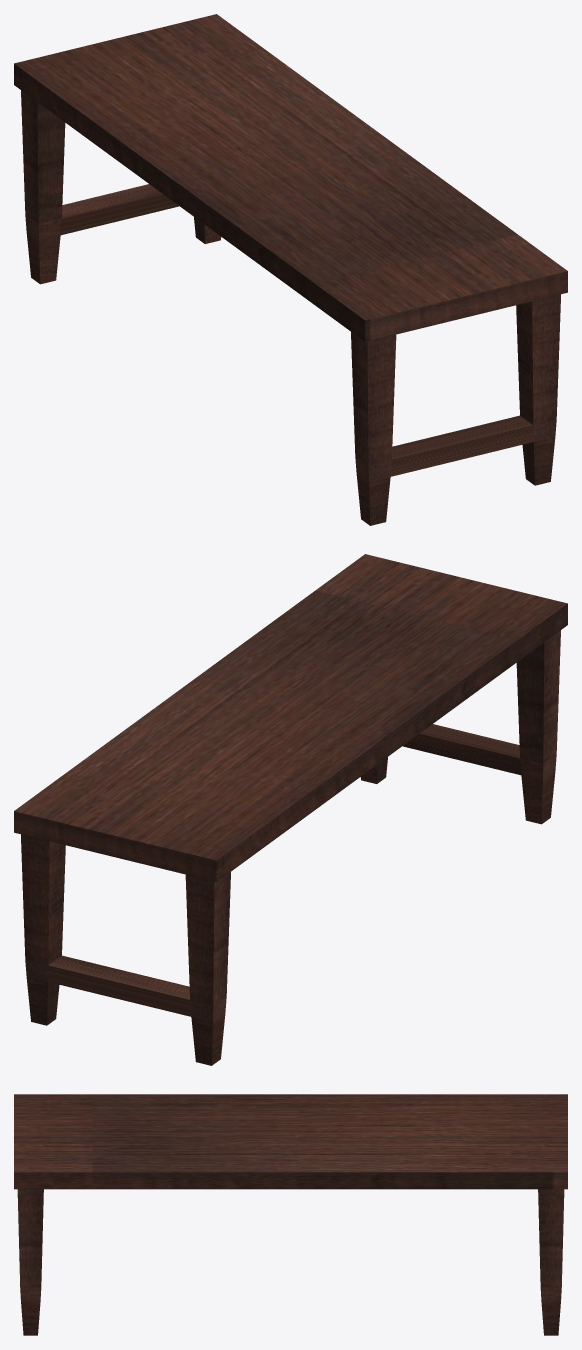
The model's file is TableMedievale.fbx.
3 views of the same model, one above another, from view 1: azimuth 30°, elevation 25°; view 2: azimuth 150°, elevation 25°; view 3: azimuth 270°, elevation 25° (orthographic). The views are drawn at different scales.
Visible parts, largest first — view 1: TableMedievale; view 2: TableMedievale; view 3: TableMedievale.
Boxes of the visible parts, <box> form: TableMedievale: <box>14,14,567,525</box>; TableMedievale: <box>14,554,567,1065</box>; TableMedievale: <box>14,1094,567,1335</box>.
Size of the model in its own units: 75 by 75.11 by 225.
